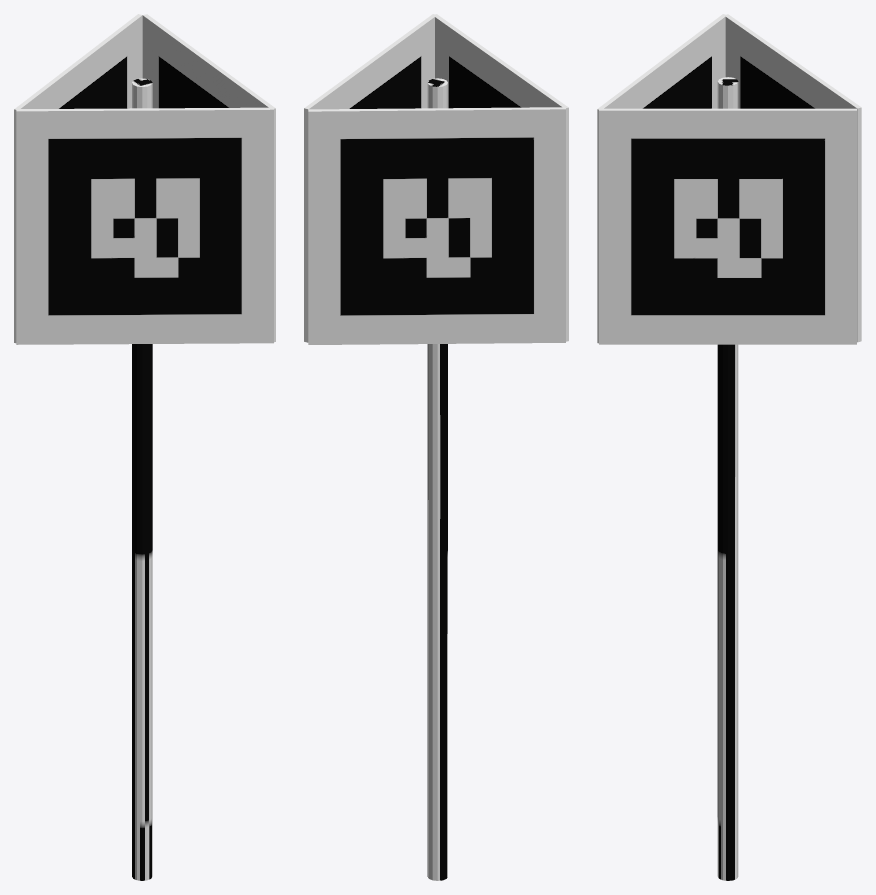
Rendered from Marker14.dae.
The picture shows the model from 3 angles, left to right: view 1: azimuth 30°, elevation 25°; view 2: azimuth 150°, elevation 25°; view 3: azimuth 270°, elevation 25°; orthographic projection.
Parts seen in each view (by area): view 1: Marker0; view 2: Marker0; view 3: Marker0.
Boxes of the visible parts, box(x1,y1,x2,y2) form: Marker0: box(14, 14, 275, 880); Marker0: box(304, 14, 568, 880); Marker0: box(597, 14, 861, 880).
Bounding box in the file's own units: 0.4433 × 0.5127 × 1.71.
